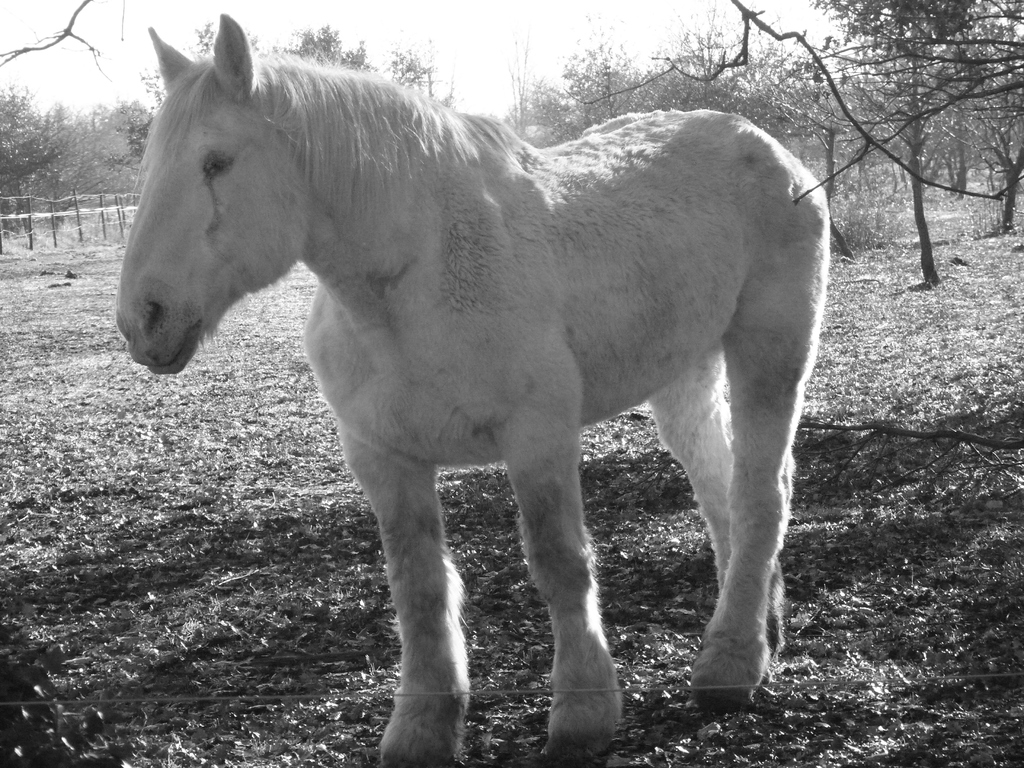horse: (115, 13, 831, 767)
